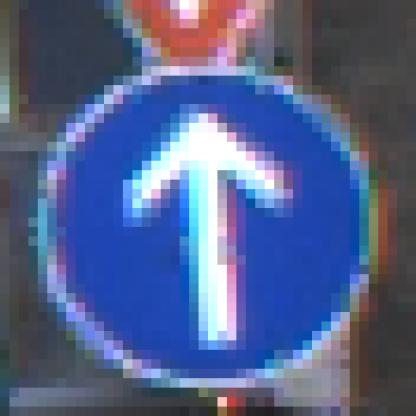AheadOnly: (48, 58, 370, 370)
